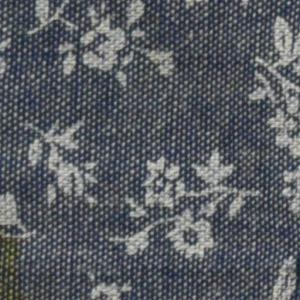Stain: (1, 222, 27, 300)
